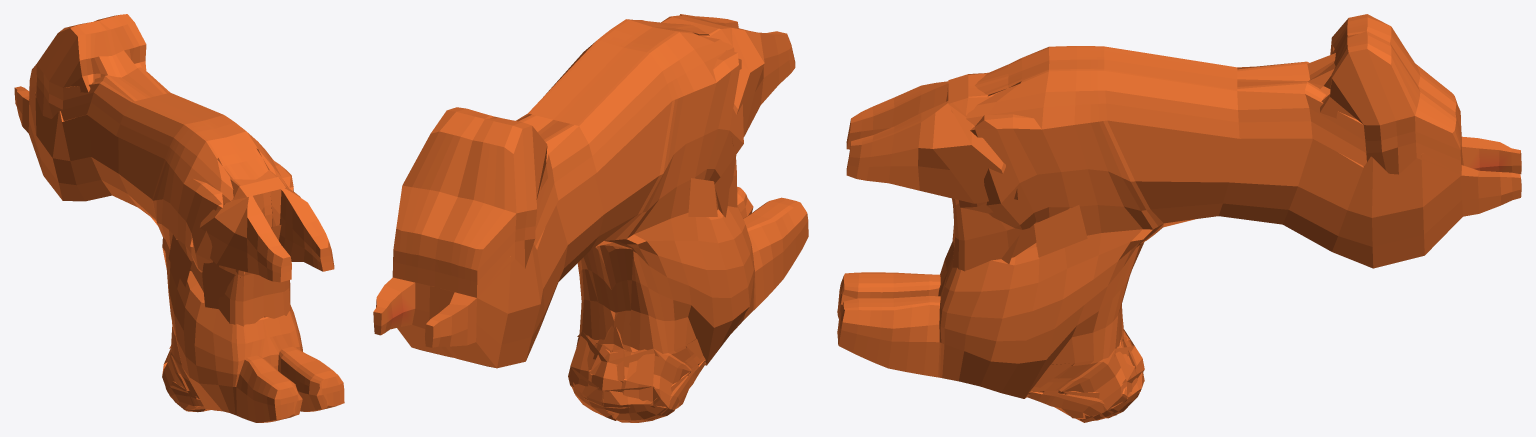
The model's file is llama.fbx.
3 renders of one model, left to right at view 1: azimuth 30°, elevation 25°; view 2: azimuth 150°, elevation 25°; view 3: azimuth 270°, elevation 25°, orthographic. The views are drawn at different scales.
Visible parts, largest first — view 1: Plane; view 2: Plane; view 3: Plane.
Boxes of the visible parts, x1,y1,x2,y2 form: Plane: (14,14,344,422); Plane: (373,14,808,422); Plane: (837,14,1521,422).
Size of the model in its own units: 65.97 by 189 by 306.
